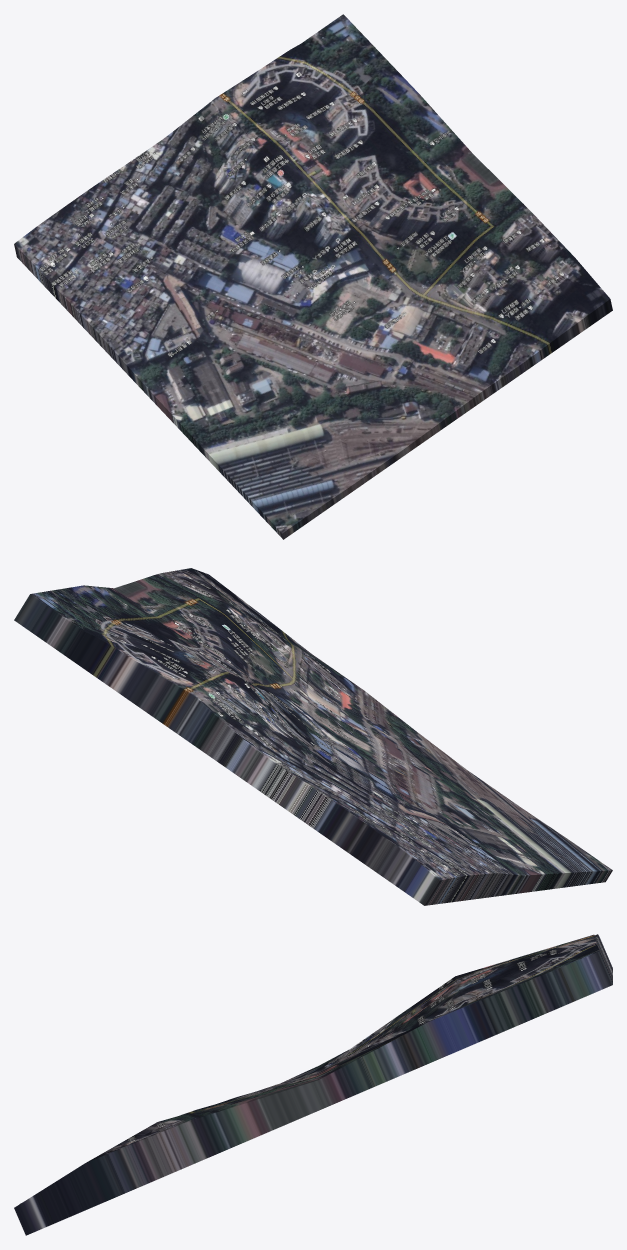
3 renders of one model, top to bottom at view 1: azimuth 30°, elevation 25°; view 2: azimuth 150°, elevation 25°; view 3: azimuth 270°, elevation 25°, orthographic. The views are drawn at different scales.
Visible parts, largest first — view 1: 0_7_30; view 2: 0_7_30; view 3: 0_7_30.
Boxes of the visible parts, x1=… form: 0_7_30: x1=14, y1=14, x2=612, y2=539; 0_7_30: x1=14, y1=568, x2=612, y2=905; 0_7_30: x1=14, y1=934, x2=612, y2=1235.
Bounding box in the file's own units: 604 × 457 × 553.
1 material, 1 textured.
